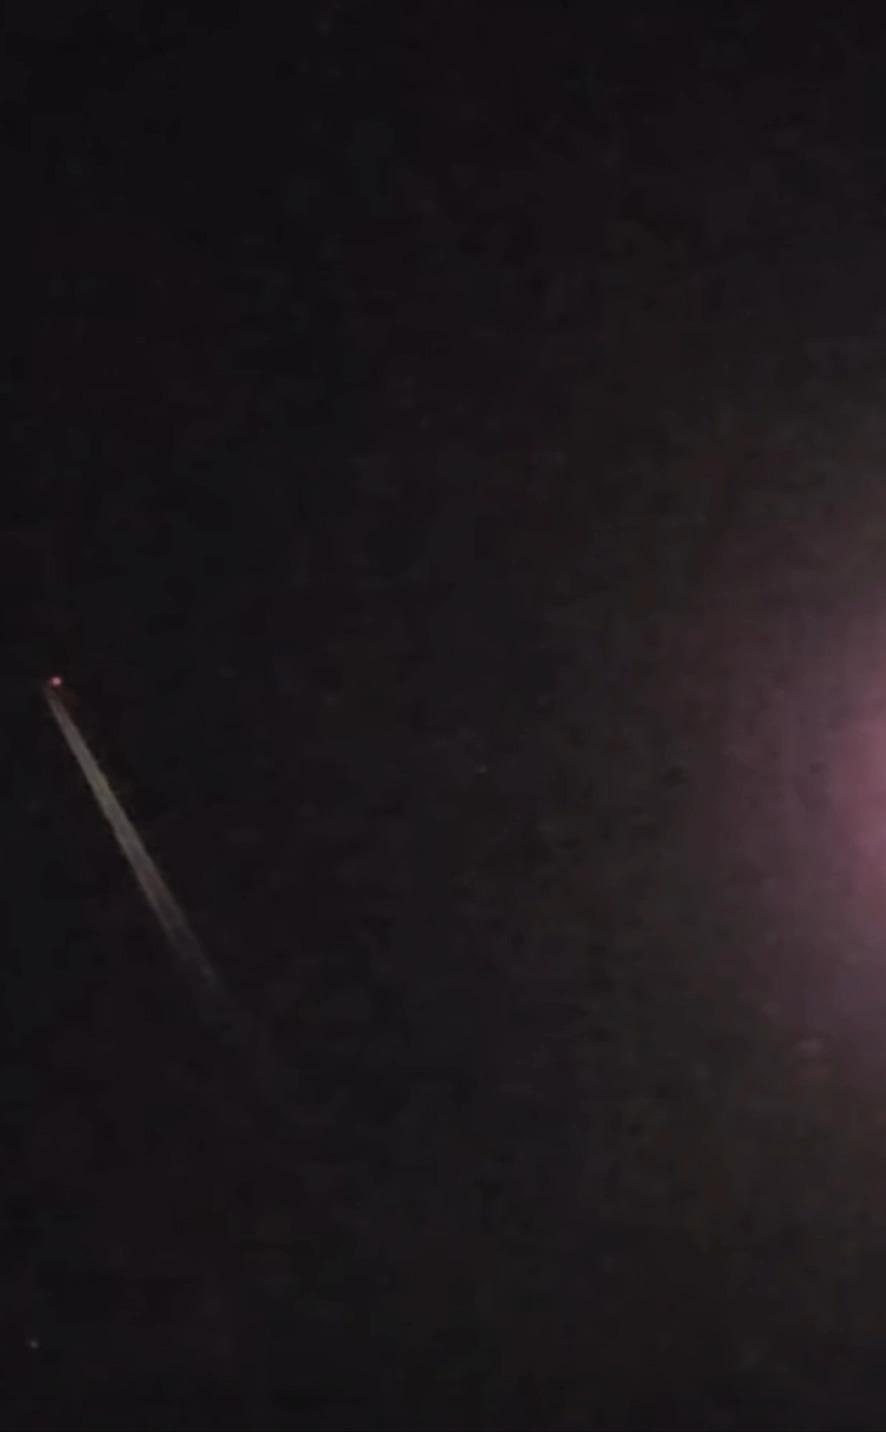Plane: (36, 648, 179, 842)
